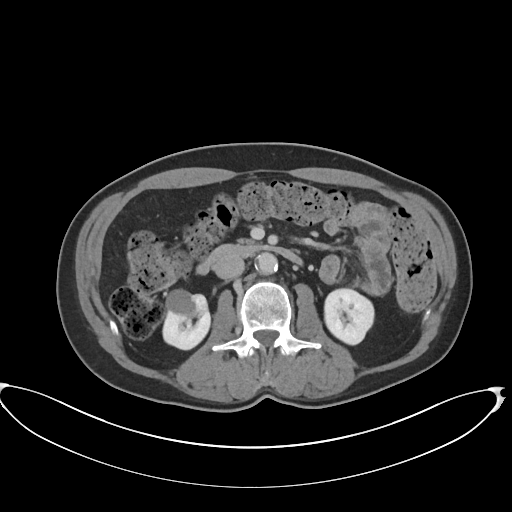Lesion: (160, 286, 201, 321)
